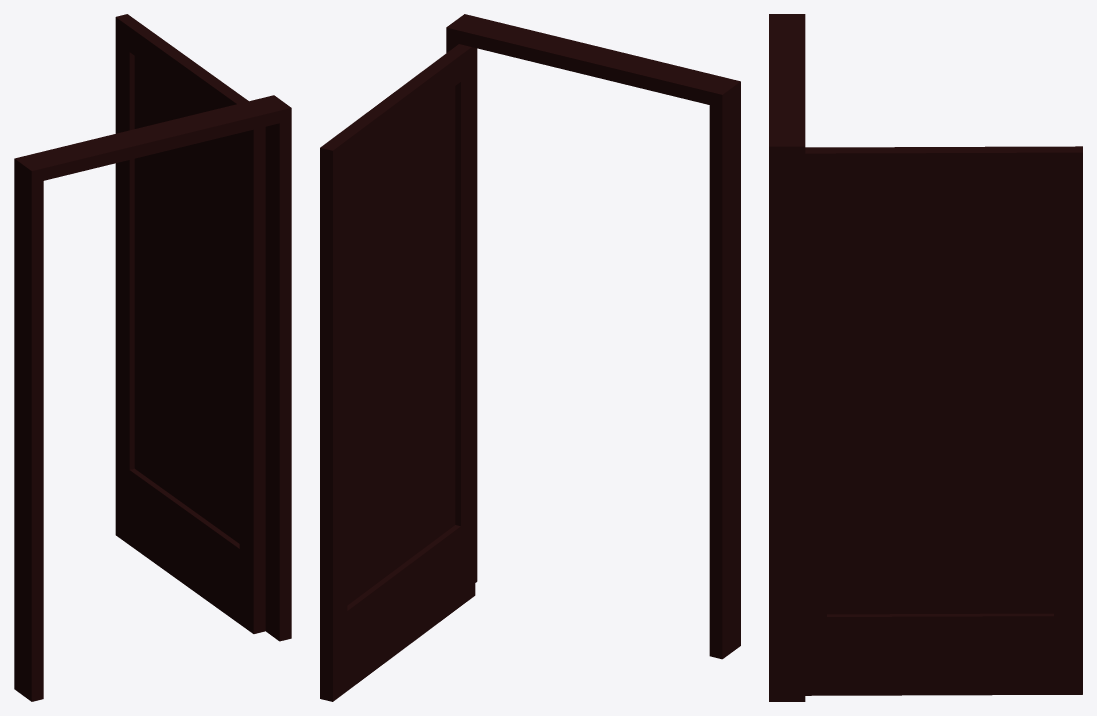
The model's file is Door_Open.FBX.
The picture shows the model from 3 angles, left to right: view 1: azimuth 30°, elevation 25°; view 2: azimuth 150°, elevation 25°; view 3: azimuth 270°, elevation 25°; orthographic projection. The views are drawn at different scales.
Parts seen in each view (by area): view 1: PivotDoor004; view 2: PivotDoor004; view 3: PivotDoor004.
Boxes of the visible parts, left/top/right/bottom form: PivotDoor004: left=14, top=14, right=291, bottom=701; PivotDoor004: left=320, top=14, right=740, bottom=701; PivotDoor004: left=769, top=14, right=1082, bottom=701.
Size of the model in its own units: 43.37 by 84.68 by 43.39.
